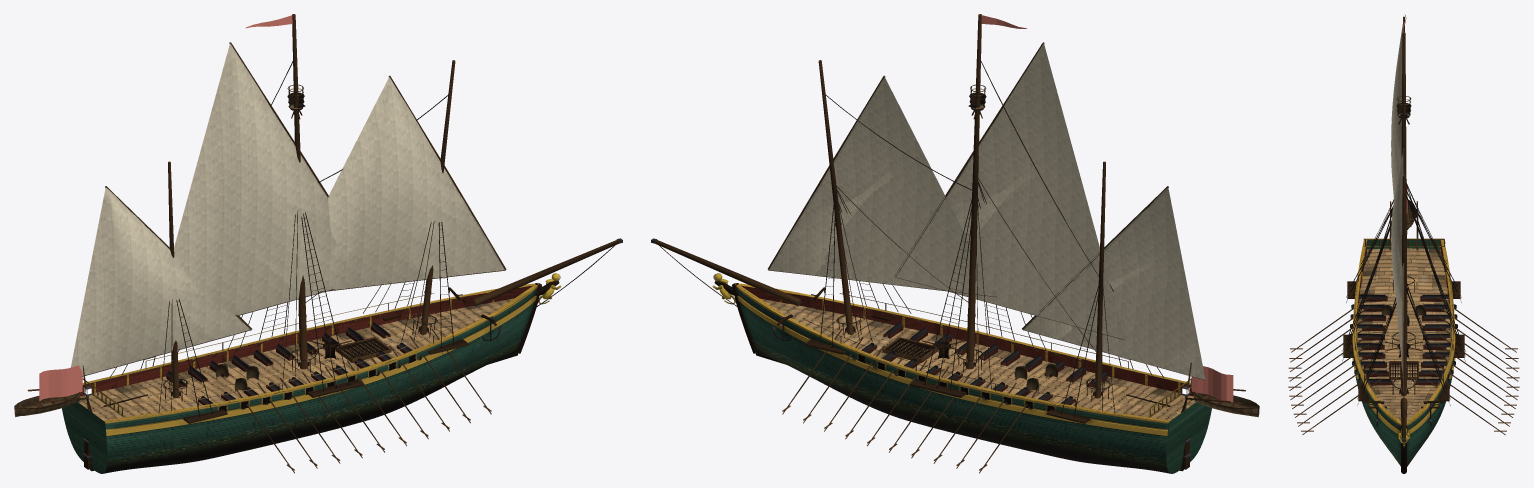
The model's file is xebec.glb.
3 views of the same model, side by side, from view 1: azimuth 30°, elevation 25°; view 2: azimuth 150°, elevation 25°; view 3: azimuth 270°, elevation 25° (orthographic). The views are drawn at different scales.
Parts seen in each view (by area): view 1: LOD0_m1_AftSail, LOD0_Body, LOD0_Wood, LOD0_m0_AftSail, LOD0_m2_AftSail, LOD2_Body, LOD2_Wood, LOD1_Wood, LOD1_m0_AftSail, LOD1_m1_AftSail, LOD1_m2_AftSail, LOD2_m0_AftSail (+4 smaller); view 2: LOD2_m1_AftSail, LOD0_Body, LOD0_Wood, LOD2_m0_AftSail, LOD2_m2_AftSail, LOD2_Body, LOD2_Wood, LOD1_Wood, LOD0_m0_AftSail, LOD1_m1_AftSail, LOD1_m0_AftSail, LOD1_Body (+3 smaller); view 3: LOD0_Wood, LOD2_Body, LOD0_Body, LOD2_Wood, LOD0_m0_AftSail, LOD0_m1_AftSail, LOD1_Wood, LOD1_Body, LOD0_m0_AftYards, LOD1_m0_AftSail, LOD2_m0_AftYards, LOD2_m0_AftSail.
Part boxes in pixels (x1,y1,x2,y2): LOD0_m1_AftSail: (174, 43, 327, 315); LOD0_Body: (82, 92, 561, 473); LOD0_Wood: (14, 14, 622, 473); LOD0_m0_AftSail: (323, 77, 502, 290); LOD0_m2_AftSail: (71, 187, 214, 374); LOD2_Body: (78, 285, 535, 472); LOD2_Wood: (66, 17, 605, 465); LOD1_Wood: (62, 14, 619, 473); LOD1_m0_AftSail: (328, 82, 504, 289); LOD1_m1_AftSail: (182, 46, 332, 299); LOD1_m2_AftSail: (71, 198, 250, 375); LOD2_m0_AftSail: (424, 206, 504, 269); LOD2_m1_AftSail: (946, 43, 1124, 337); LOD0_Body: (712, 94, 1191, 473); LOD0_Wood: (651, 14, 1259, 473); LOD2_m0_AftSail: (769, 77, 970, 289); LOD2_m2_AftSail: (1059, 187, 1202, 378); LOD2_Body: (738, 285, 1195, 472); LOD2_Wood: (676, 14, 1207, 465); LOD1_Wood: (655, 15, 1211, 473); LOD0_m0_AftSail: (769, 105, 996, 296); LOD1_m1_AftSail: (946, 162, 1124, 337); LOD1_m0_AftSail: (778, 92, 988, 295); LOD1_Body: (737, 105, 1167, 472); LOD0_Wood: (1288, 32, 1519, 473); LOD2_Body: (1356, 248, 1451, 463); LOD0_Body: (1342, 104, 1465, 466); LOD2_Wood: (1352, 33, 1455, 453); LOD0_m0_AftSail: (1391, 153, 1403, 316); LOD0_m1_AftSail: (1391, 24, 1402, 197); LOD1_Wood: (1352, 32, 1455, 473); LOD1_Body: (1356, 113, 1451, 466); LOD0_m0_AftYards: (1402, 148, 1404, 392); LOD1_m0_AftSail: (1391, 181, 1403, 331); LOD2_m0_AftYards: (1404, 148, 1405, 392); LOD2_m0_AftSail: (1394, 278, 1402, 377).
Bounding box in the file's own units: 42.72 × 27.96 × 16.11.
Materials: 5 (3 with a texture image).
